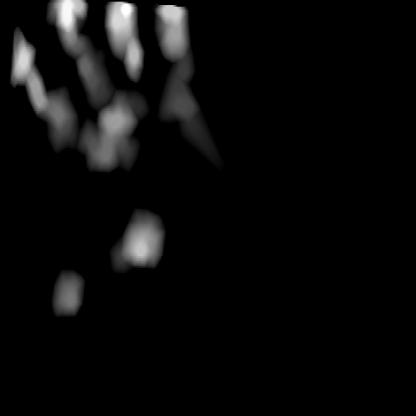fingers: (48, 268, 83, 315)
palm: (15, 0, 193, 83), (13, 0, 88, 145)
thumb: (90, 86, 204, 273)
